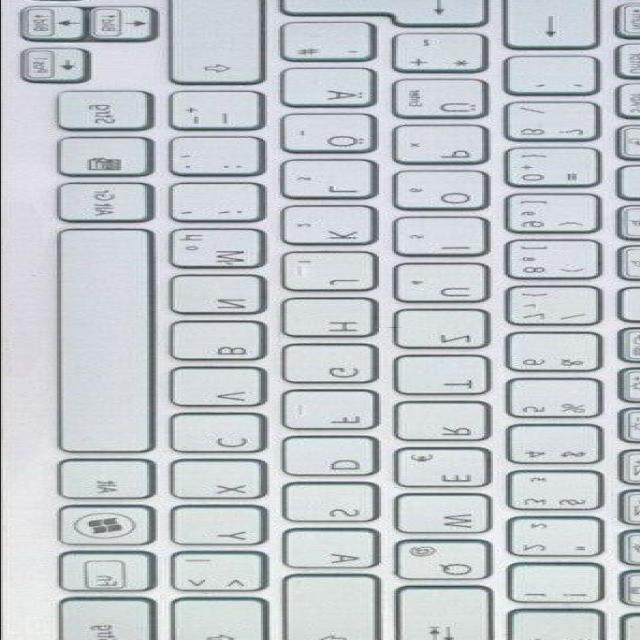0: (509, 149, 610, 191)
1: (514, 566, 610, 606)
2: (514, 520, 610, 560)
3: (514, 473, 610, 515)
4: (514, 427, 610, 467)
5: (514, 381, 610, 422)
6: (511, 336, 610, 376)
7: (509, 289, 610, 329)
8: (509, 243, 610, 283)
9: (511, 196, 610, 238)
a: (291, 532, 387, 572)
accent: (512, 58, 608, 98)
ae: (288, 70, 384, 110)
alt-left: (62, 461, 161, 503)
altgr-right: (63, 185, 159, 227)
b: (177, 324, 273, 366)
c: (177, 416, 273, 456)
caret: (516, 613, 612, 640)
comma: (177, 186, 273, 226)
d: (288, 439, 387, 479)
del: (509, 0, 608, 52)
e: (400, 451, 499, 491)
enter: (282, 0, 499, 30)
f: (288, 393, 387, 433)
g: (288, 347, 384, 387)
h: (288, 301, 384, 341)
hash: (286, 25, 385, 65)
i: (400, 220, 499, 260)
j: (288, 255, 387, 295)
k: (286, 209, 385, 249)
keyboard: (2, 0, 640, 640)
l: (288, 162, 384, 202)
less: (176, 554, 275, 596)
m: (174, 232, 275, 274)
minus: (174, 93, 273, 133)
n: (177, 278, 273, 318)
o: (400, 173, 496, 215)
oe: (286, 117, 385, 157)
p: (400, 128, 496, 168)
plus: (397, 34, 496, 76)
point: (177, 139, 273, 179)
q: (400, 543, 499, 584)
r: (402, 405, 498, 445)
s: (288, 485, 384, 525)
shift-left: (176, 602, 277, 640)
shift-lock: (288, 578, 389, 640)
shift-right: (174, 0, 275, 88)
space: (60, 231, 163, 455)
ss: (509, 105, 608, 145)
strg-left: (63, 600, 164, 640)
strg-right: (60, 92, 159, 134)
t: (402, 358, 498, 398)
tab: (402, 590, 503, 640)
u: (400, 267, 499, 307)
ue: (397, 81, 496, 123)
v: (176, 371, 275, 411)
w: (402, 498, 501, 538)
x: (177, 463, 273, 502)
y: (177, 509, 273, 549)
z: (400, 312, 499, 352)
